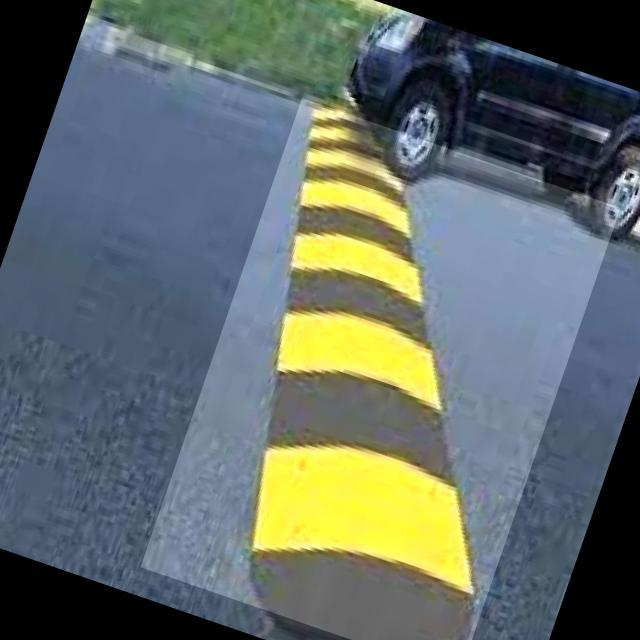speedbreaker: (140, 98, 620, 640)
